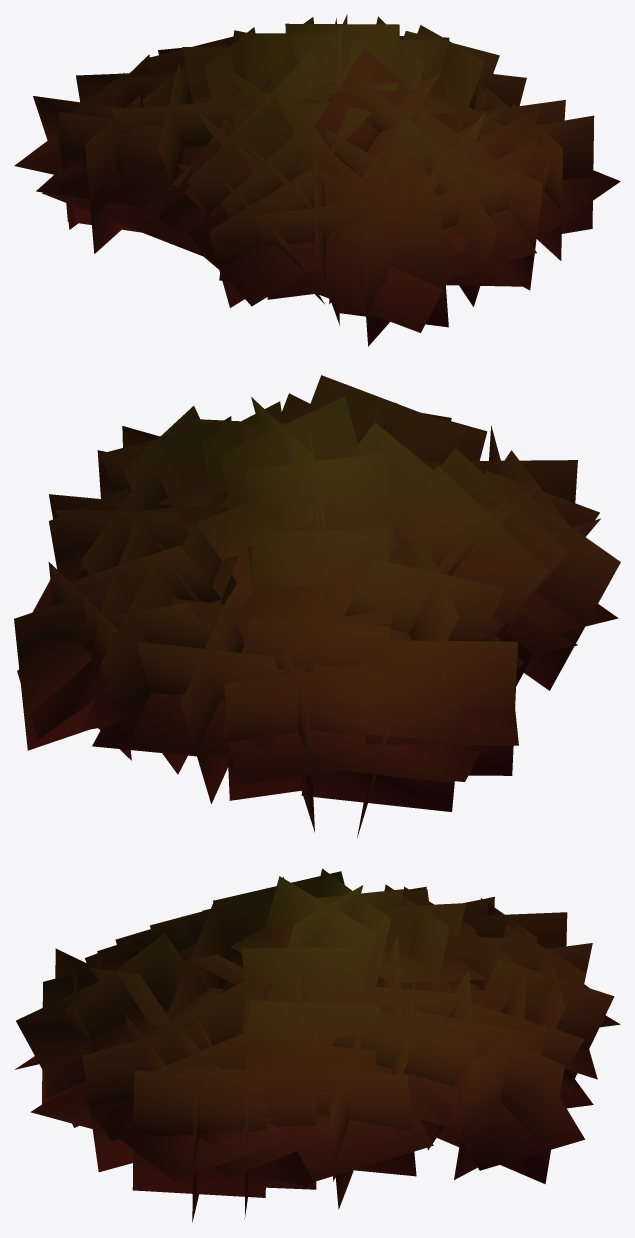
The model's file is TEM_Bush_01A.fbx.
3 renders of one model, top to bottom at view 1: azimuth 30°, elevation 25°; view 2: azimuth 150°, elevation 25°; view 3: azimuth 270°, elevation 25°, orthographic. The views are drawn at different scales.
Parts seen in each view (by area): view 1: TEM_Bush_01A_LOD0; view 2: TEM_Bush_01A_LOD0; view 3: TEM_Bush_01A_LOD0.
Part boxes in pixels (x1,y1,x2,y2): TEM_Bush_01A_LOD0: [14, 14, 620, 346]; TEM_Bush_01A_LOD0: [14, 375, 620, 838]; TEM_Bush_01A_LOD0: [14, 868, 620, 1222].
Bounding box in the file's own units: 354 × 177 × 379.
